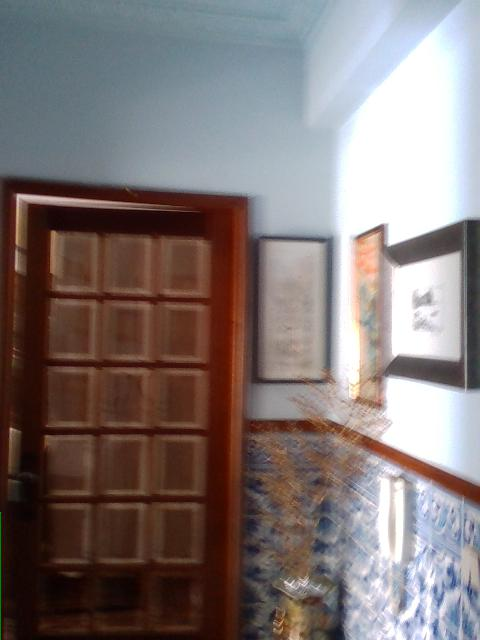door: (0, 173, 245, 638)
